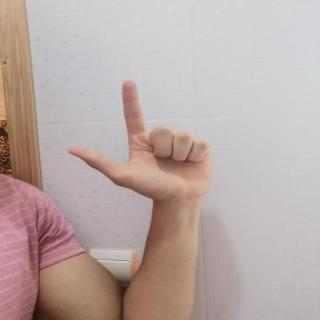LAAM: (55, 72, 224, 212)
